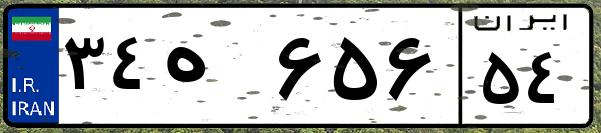3: (57, 26, 110, 100)
4: (525, 38, 570, 115), (110, 28, 158, 98)
5: (330, 28, 385, 110), (475, 38, 525, 113)
6: (270, 28, 330, 110), (385, 28, 445, 110)
ه: (158, 20, 270, 120)
